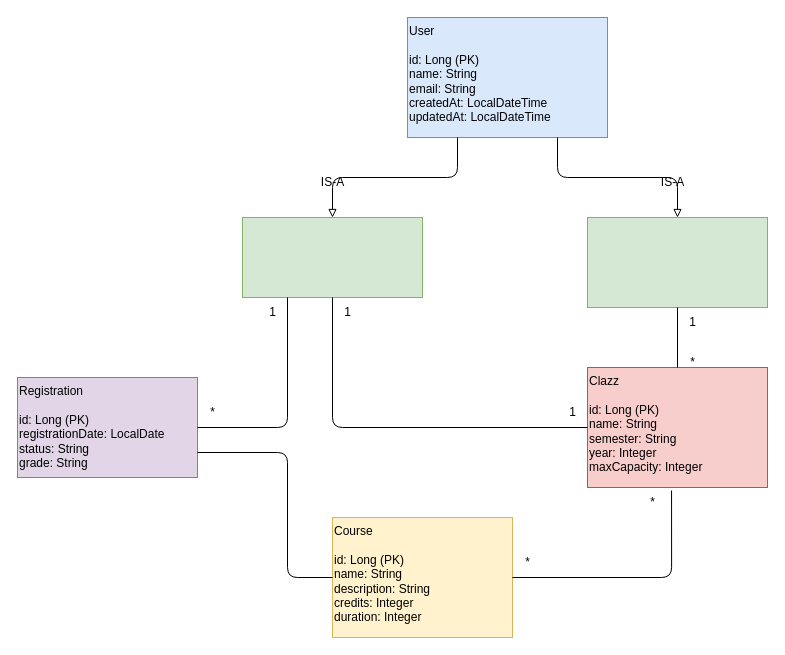
Image size: 785x655. Some labels were removed from this diagram. The box of each missing label's shape, as (x1, y1, x2, y2) in pixels:
Student studentId: String enrollmentDate: LocalDate: (242, 216, 422, 298)
Teacher employeeId: String department: String hireDate: LocalDate: (586, 216, 768, 308)
